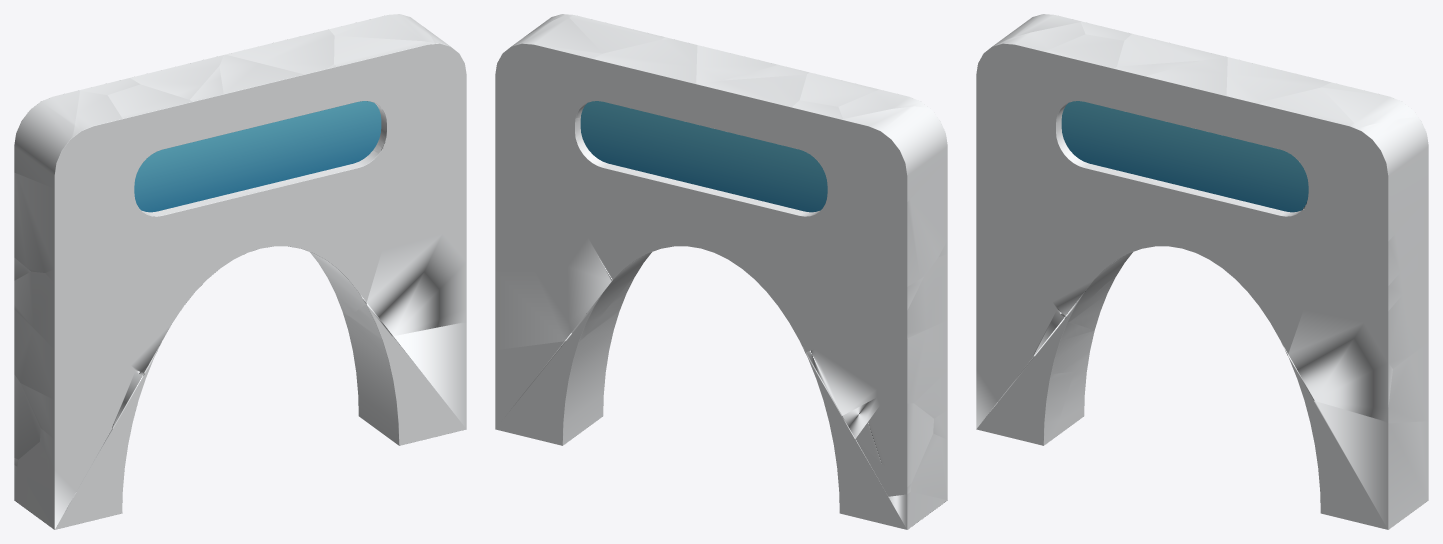
The model's file is ArchChunks.fbx.
The picture shows the model from 3 angles, left to right: view 1: azimuth 30°, elevation 25°; view 2: azimuth 150°, elevation 25°; view 3: azimuth 330°, elevation 25°; orthographic projection.
Visible parts, largest first — view 1: Arch_Chunk_04_23, Arch_Chunk_02_38, Arch_Chunk_09_18, Arch_Chunk_08_63, Arch_Chunk_07_17, Arch_Chunk_04_52, Arch_Chunk_06_79, Arch_Chunk_03_66, Arch_Chunk_03_31, Arch_Chunk_06_59, Arch_Chunk_07_12, Arch_Chunk_01_40 (+38 smaller); view 2: Arch_Chunk_04_23, Arch_Chunk_03_66, Arch_Chunk_04_00, Arch_Chunk_05_26, Arch_Chunk_07_64, Arch_Chunk_09_18, Arch_Chunk_10_27, Arch_Chunk_02_56, Arch_Chunk_07_08, Arch_Chunk_03_36, Arch_Chunk_09_02, Arch_Chunk_04_52 (+44 smaller); view 3: Arch_Chunk_04_23, Arch_Chunk_02_38, Arch_Chunk_02_21, Arch_Chunk_08_63, Arch_Chunk_07_17, Arch_Chunk_03_42, Arch_Chunk_07_12, Arch_Chunk_03_31, Arch_Chunk_09_33, Arch_Chunk_06_79, Arch_Chunk_01_40, Arch_Chunk_02_10 (+40 smaller).
Boxes of the visible parts, x1,y1,x2,y2 form: Arch_Chunk_04_23: (343, 314, 466, 445); Arch_Chunk_02_38: (351, 233, 466, 338); Arch_Chunk_09_18: (14, 172, 100, 272); Arch_Chunk_08_63: (40, 427, 129, 514); Arch_Chunk_07_17: (334, 35, 435, 104); Arch_Chunk_04_52: (14, 309, 117, 399); Arch_Chunk_06_79: (21, 361, 134, 439); Arch_Chunk_03_66: (14, 90, 80, 188); Arch_Chunk_03_31: (249, 160, 330, 247); Arch_Chunk_06_59: (14, 271, 103, 349); Arch_Chunk_07_12: (370, 185, 466, 250); Arch_Chunk_01_40: (219, 54, 304, 127); Arch_Chunk_04_23: (495, 309, 620, 445); Arch_Chunk_03_66: (842, 106, 947, 201); Arch_Chunk_04_00: (592, 39, 697, 121); Arch_Chunk_05_26: (505, 15, 602, 105); Arch_Chunk_07_64: (696, 74, 806, 144); Arch_Chunk_09_18: (876, 160, 947, 286); Arch_Chunk_10_27: (495, 271, 573, 349); Arch_Chunk_02_56: (822, 173, 906, 251); Arch_Chunk_07_08: (855, 401, 933, 486); Arch_Chunk_03_36: (512, 102, 596, 170); Arch_Chunk_09_02: (780, 100, 854, 186); Arch_Chunk_04_52: (877, 320, 947, 403); Arch_Chunk_04_23: (1303, 398, 1428, 529); Arch_Chunk_02_38: (1287, 310, 1392, 421); Arch_Chunk_02_21: (1342, 117, 1428, 241); Arch_Chunk_08_63: (976, 339, 1074, 445); Arch_Chunk_07_17: (1259, 87, 1357, 163); Arch_Chunk_03_42: (1326, 197, 1428, 285); Arch_Chunk_07_12: (1291, 240, 1428, 322); Arch_Chunk_03_31: (1171, 180, 1252, 263); Arch_Chunk_09_33: (993, 96, 1086, 169); Arch_Chunk_06_79: (976, 291, 1056, 354); Arch_Chunk_01_40: (1145, 56, 1227, 127); Arch_Chunk_02_10: (1364, 265, 1428, 368).
Bounding box in the file's own units: 2.35 × 2.15 × 0.4.
